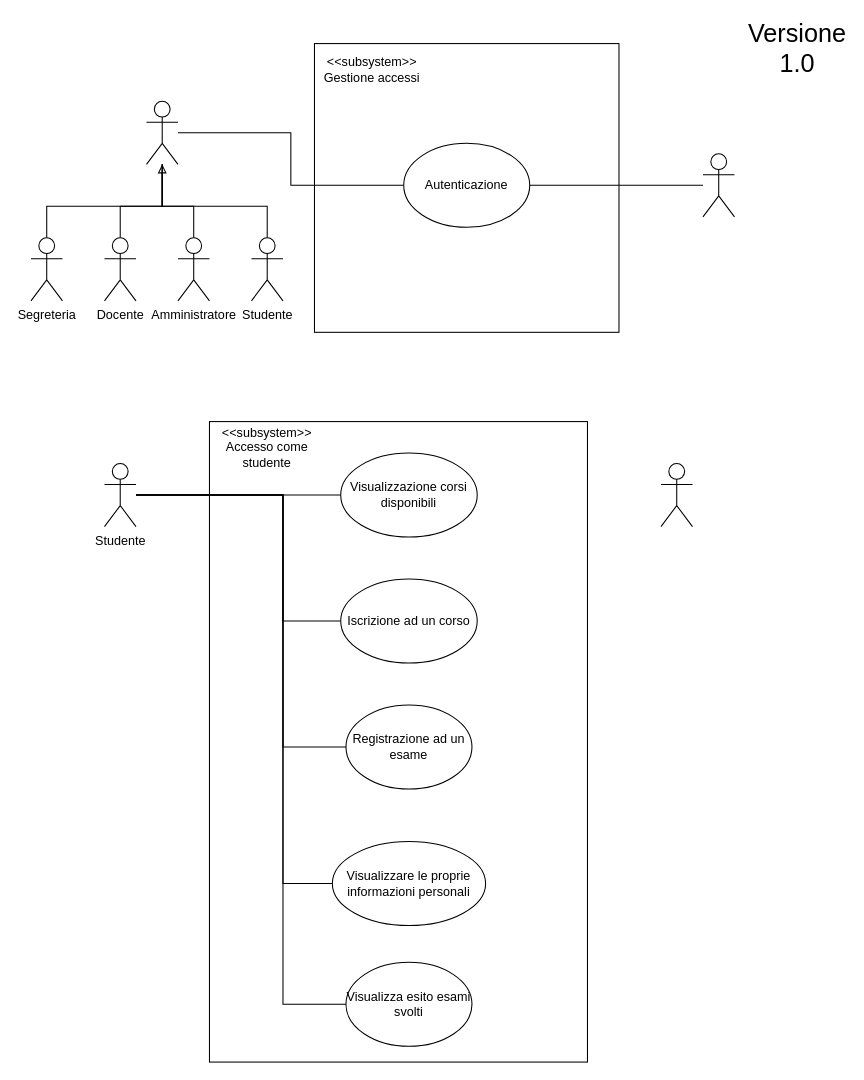
Some shapes in this 864 by 1080 pixel diagram are drawn without their labels. Here are the shapes that lost their labels. From the top down, the centre of each, then its label:
At (161,132): "Persona".
At (718,185): "Sottosistema di riferimento".
At (676,495): "Sito Web".
